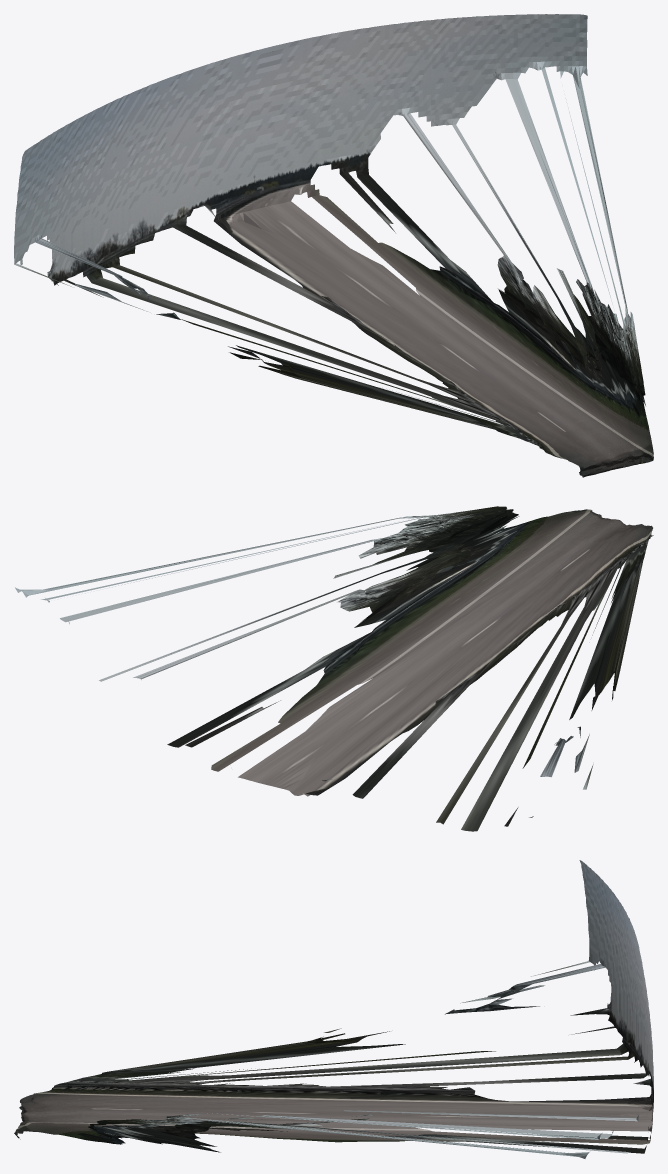
3 views of the same model, one above another, from view 1: azimuth 30°, elevation 25°; view 2: azimuth 150°, elevation 25°; view 3: azimuth 270°, elevation 25° (orthographic). The views are drawn at different scales.
Visible parts, largest first — view 1: defaultobject; view 2: defaultobject; view 3: defaultobject.
Part boxes in pixels (x1,y1,x2,y2): defaultobject: [14, 14, 653, 477]; defaultobject: [15, 506, 653, 831]; defaultobject: [14, 860, 653, 1158].
Size of the model in its own units: 41.03 by 12.33 by 44.46.
1 material, 1 textured.
